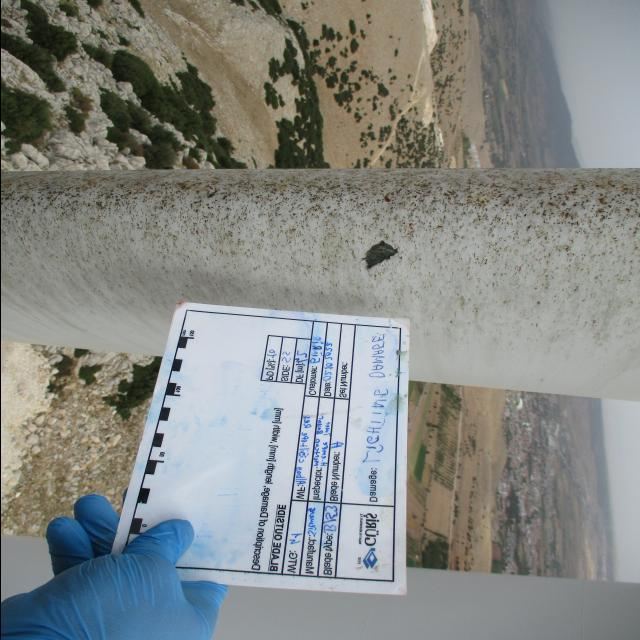Coating_defects: (357, 237, 403, 274)
EROSION: (5, 171, 639, 229)
